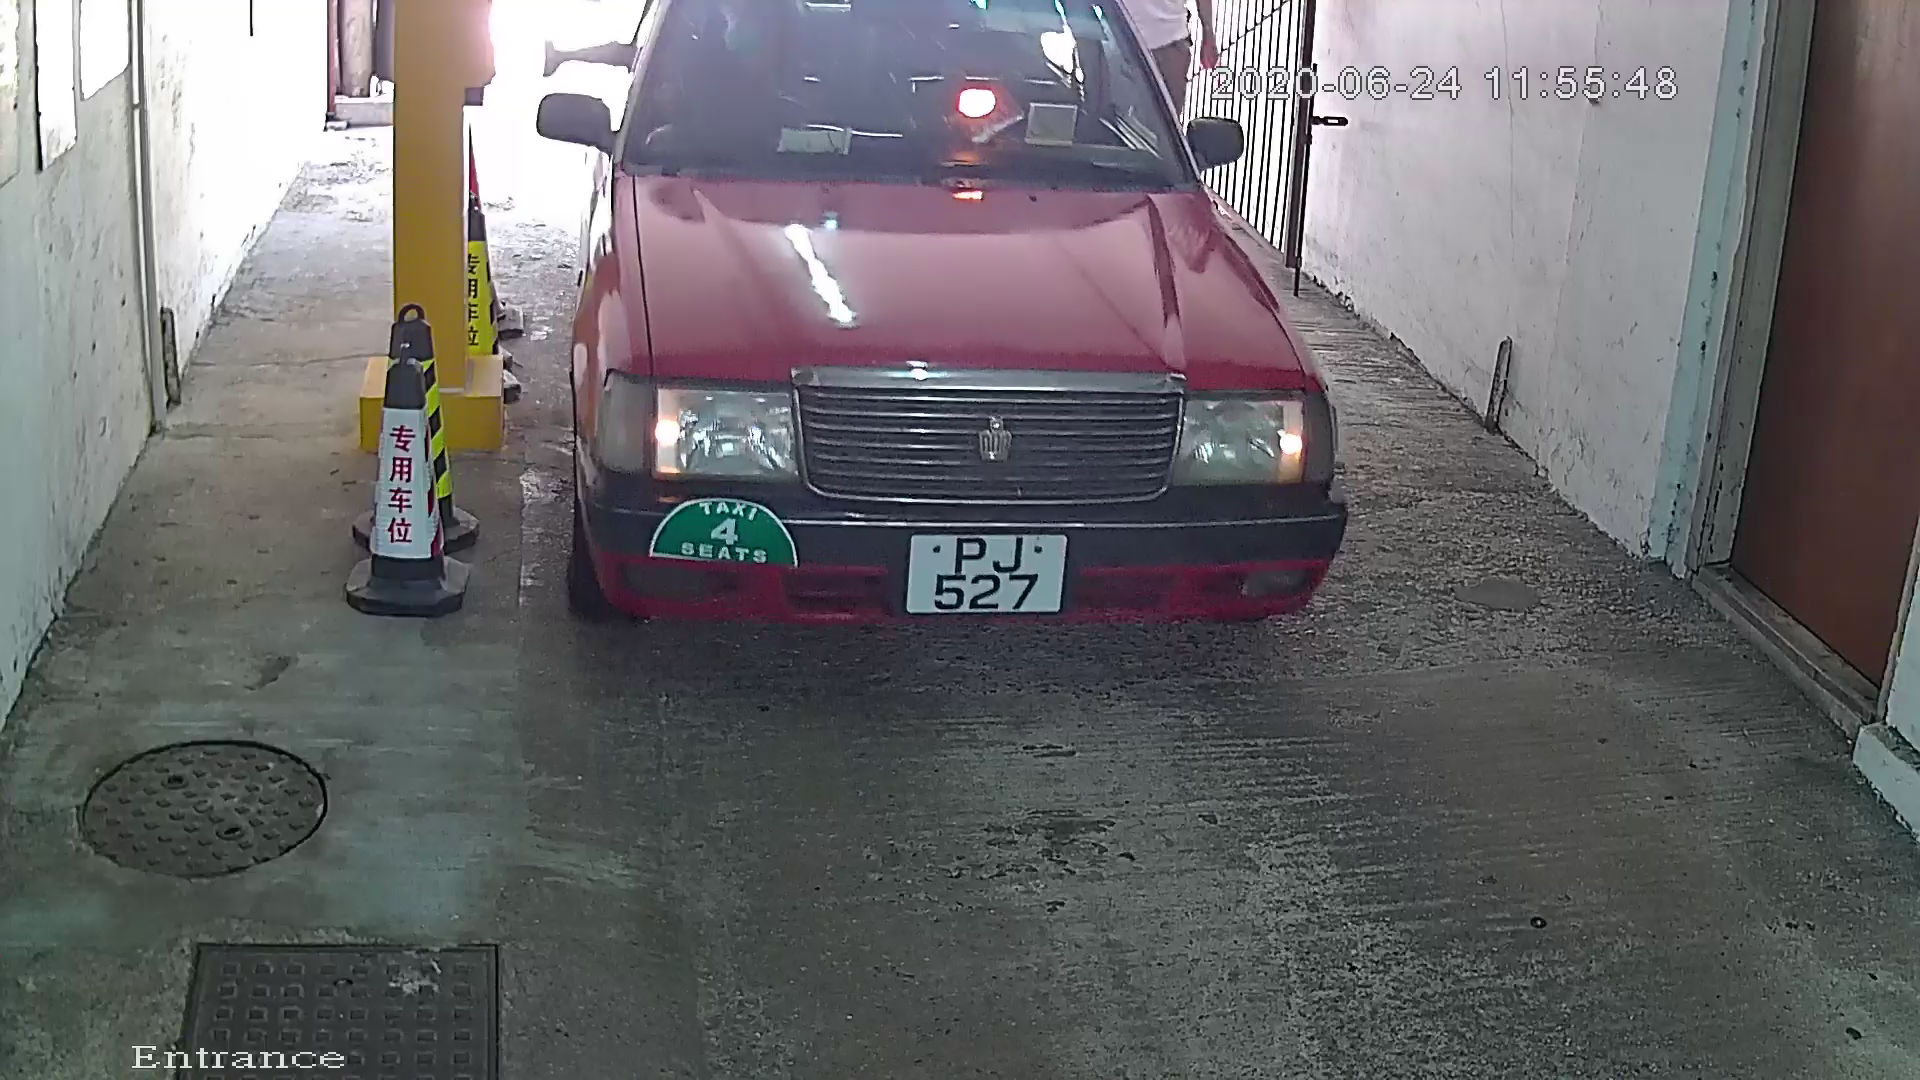Car: (501, 1, 1362, 710)
License Plate: (899, 513, 1080, 632)
